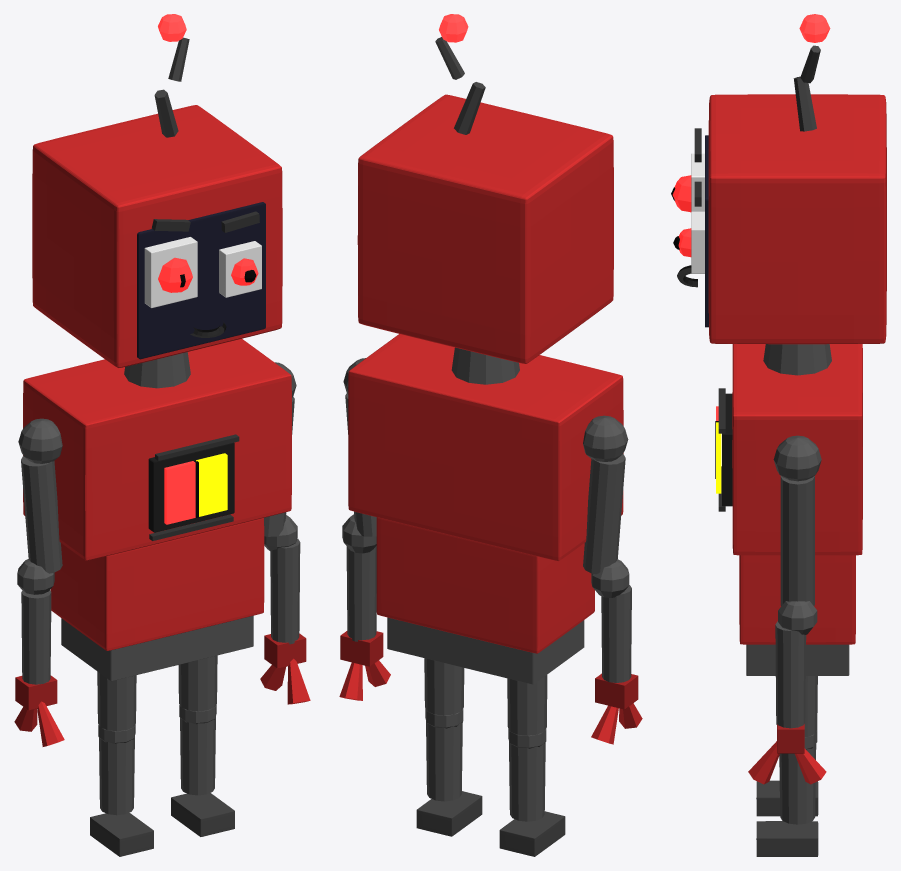
File: clawdbot.glb
The picture shows the model from 3 angles, left to right: view 1: azimuth 30°, elevation 25°; view 2: azimuth 150°, elevation 25°; view 3: azimuth 270°, elevation 25°; orthographic projection. The views are drawn at different scales.
Parts seen in each view (by area): view 1: clawdbot_head, clawdbot_chest, clawdbot_waist, clawdbot_face_plate, clawdbot_hips, clawdbot_l_upper_arm, clawdbot_r_forearm, clawdbot_glitch_panel, clawdbot_l_forearm, clawdbot_r_calf, clawdbot_l_calf, clawdbot_l_sclera (+20 smaller); view 2: clawdbot_head, clawdbot_chest, clawdbot_waist, clawdbot_hips, clawdbot_l_upper_arm, clawdbot_r_calf, clawdbot_l_calf, clawdbot_l_forearm, clawdbot_r_forearm, clawdbot_l_thigh, clawdbot_l_foot, clawdbot_r_foot (+11 smaller); view 3: clawdbot_head, clawdbot_chest, clawdbot_waist, clawdbot_r_upper_arm, clawdbot_r_forearm, clawdbot_hips, clawdbot_r_foot, clawdbot_r_calf, clawdbot_neck, clawdbot_r_shoulder, clawdbot_glitch_panel, clawdbot_r_elbow (+12 smaller).
Boxes of the visible parts, box(x1,y1,x2,y2) form: clawdbot_head: box(32, 105, 282, 367); clawdbot_chest: box(23, 338, 291, 560); clawdbot_waist: box(50, 518, 264, 650); clawdbot_face_plate: box(137, 202, 265, 359); clawdbot_hips: box(61, 615, 253, 681); clawdbot_l_upper_arm: box(21, 456, 62, 573); clawdbot_r_forearm: box(270, 538, 300, 644); clawdbot_glitch_panel: box(148, 442, 234, 532); clawdbot_l_forearm: box(21, 590, 51, 684); clawdbot_r_calf: box(180, 717, 215, 795); clawdbot_l_calf: box(99, 736, 134, 815); clawdbot_l_sclera: box(144, 237, 197, 308); clawdbot_head: box(357, 94, 613, 363); clawdbot_chest: box(348, 334, 623, 561); clawdbot_waist: box(376, 517, 594, 653); clawdbot_hips: box(387, 617, 584, 684); clawdbot_l_upper_arm: box(583, 454, 625, 574); clawdbot_r_calf: box(426, 721, 462, 801); clawdbot_l_calf: box(509, 742, 545, 821); clawdbot_l_forearm: box(601, 585, 631, 682); clawdbot_r_forearm: box(346, 546, 376, 641); clawdbot_l_thigh: box(507, 675, 547, 735); clawdbot_l_foot: box(499, 811, 565, 856); clawdbot_r_foot: box(416, 791, 482, 836); clawdbot_head: box(708, 94, 886, 344); clawdbot_chest: box(732, 344, 862, 555); clawdbot_waist: box(739, 555, 855, 644); clawdbot_r_upper_arm: box(780, 476, 814, 605); clawdbot_r_forearm: box(775, 621, 806, 728); clawdbot_hips: box(746, 644, 849, 675); clawdbot_r_foot: box(756, 821, 818, 856); clawdbot_r_calf: box(779, 744, 816, 824); clawdbot_neck: box(763, 344, 831, 375); clawdbot_r_shoulder: box(773, 435, 821, 481); clawdbot_glitch_panel: box(722, 393, 732, 506); clawdbot_r_elbow: box(778, 601, 817, 634).
Bounding box in the file's own units: 0.96 × 2.65 × 0.6286.
